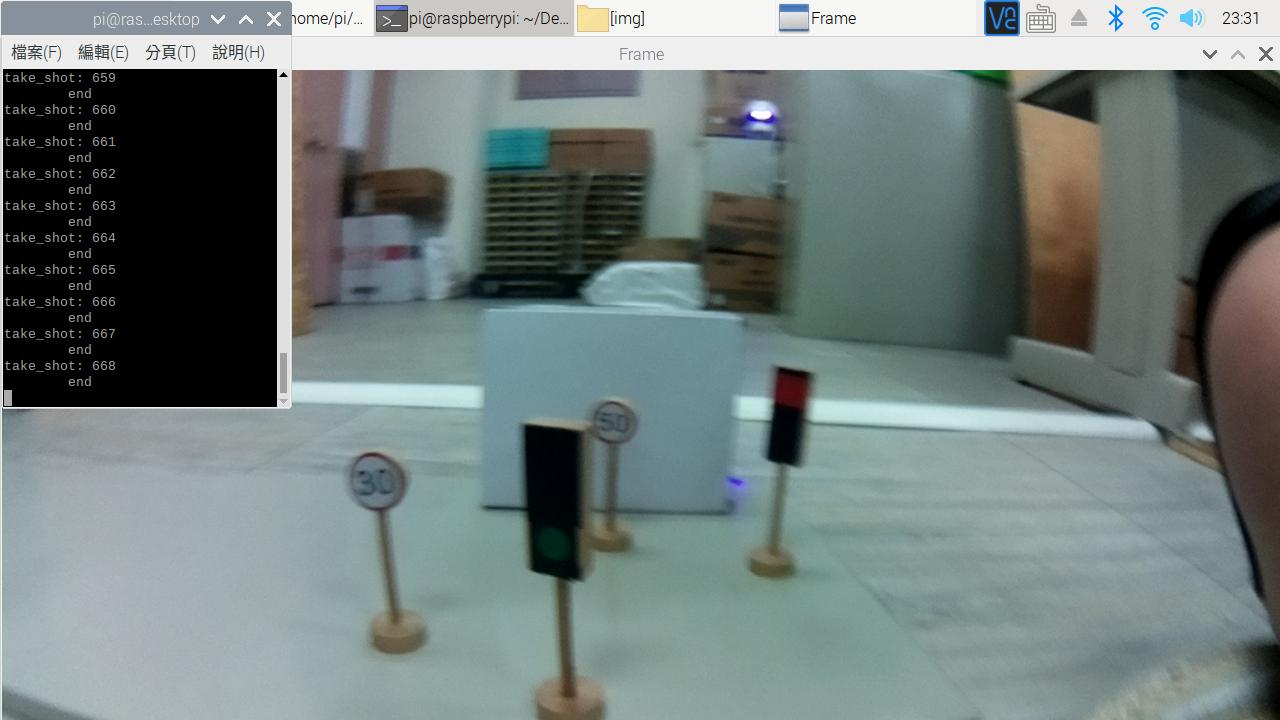Green: (517, 413, 608, 588)
Red: (756, 365, 826, 477)
